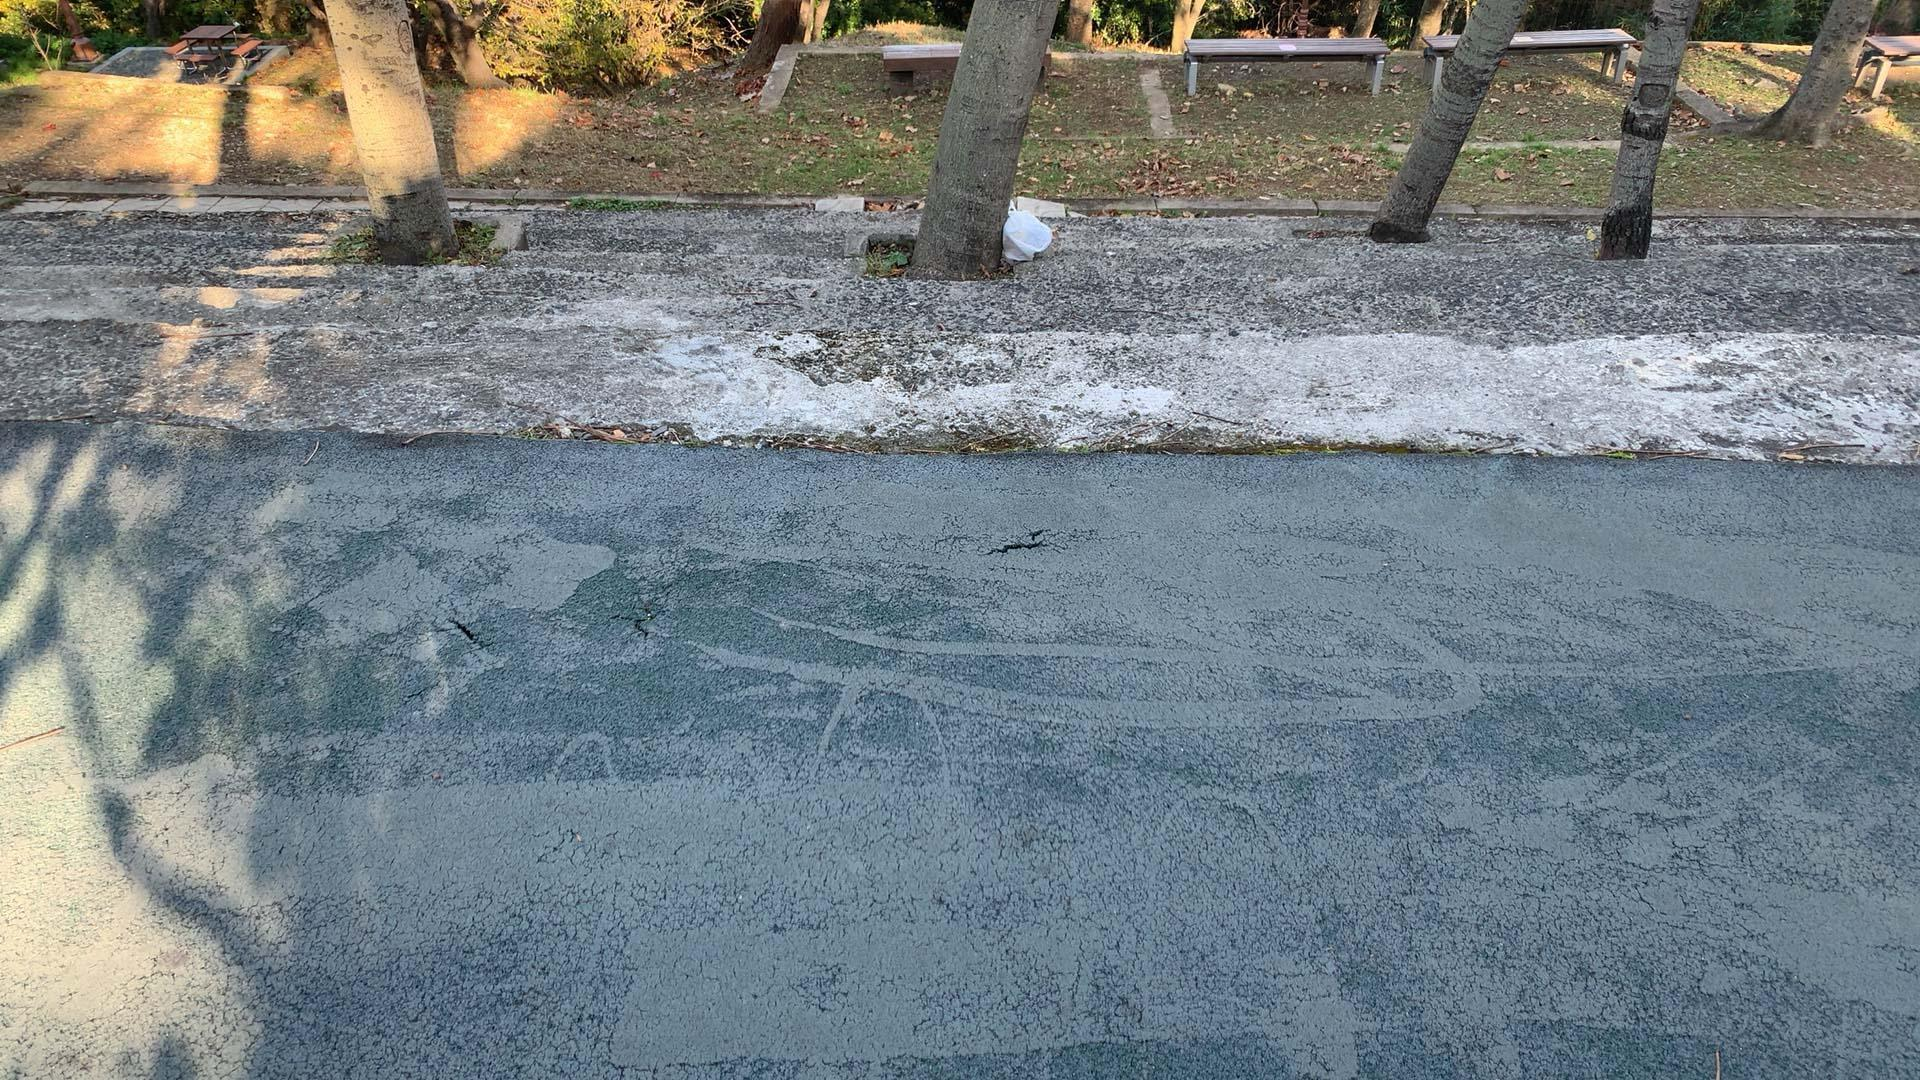white_bag: (993, 206, 1058, 265)
